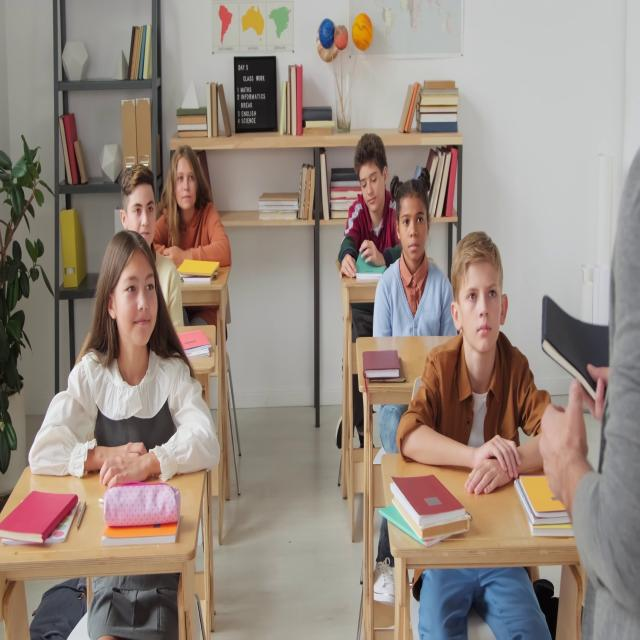listening: (395, 240, 565, 638), (30, 234, 224, 474), (370, 175, 456, 352), (155, 145, 233, 333), (120, 166, 188, 327)
reading: (332, 132, 395, 280)
